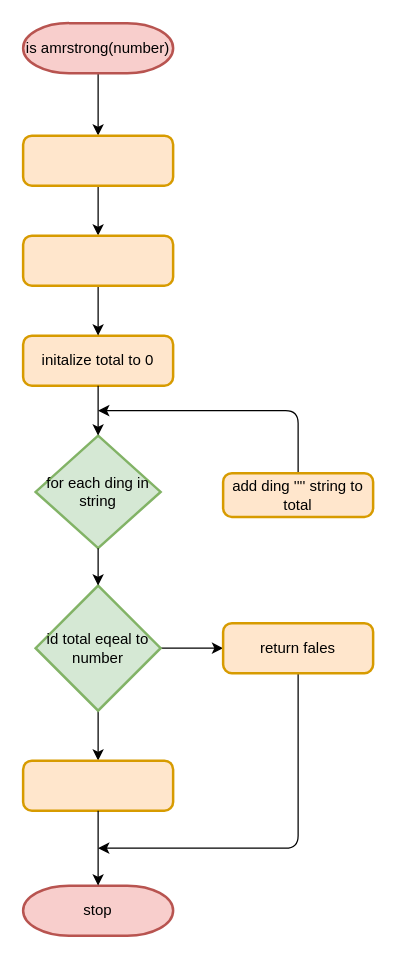
The diagram is 395 pixels wide and 958 high, and some of its shapes have lost their labels. The shapes that lost their labels are listed below. From the top down, each one's centre as x and y in pixels, then its label:
point (97, 160): convert number to string
point (97, 260): get numbr of dingits
point (97, 785): reture true
